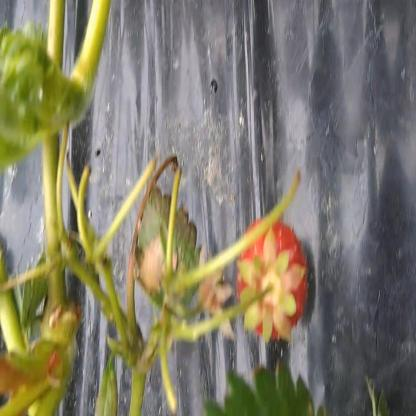ripe: (238, 219, 315, 350)
